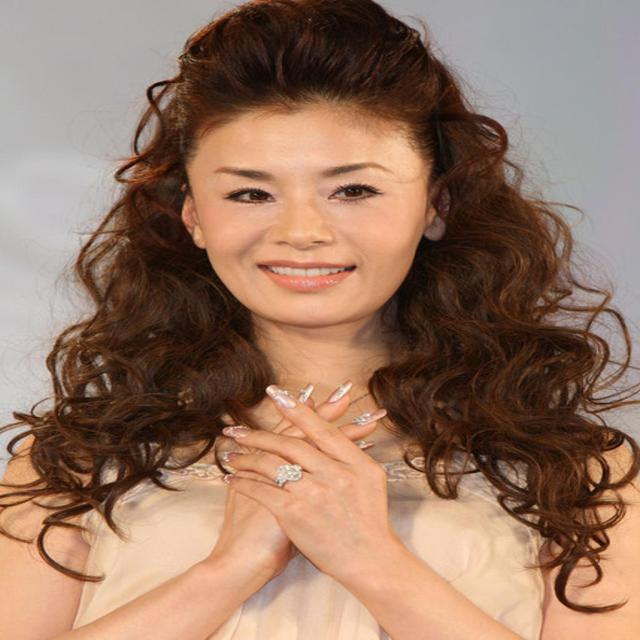Face: (181, 111, 441, 322)
